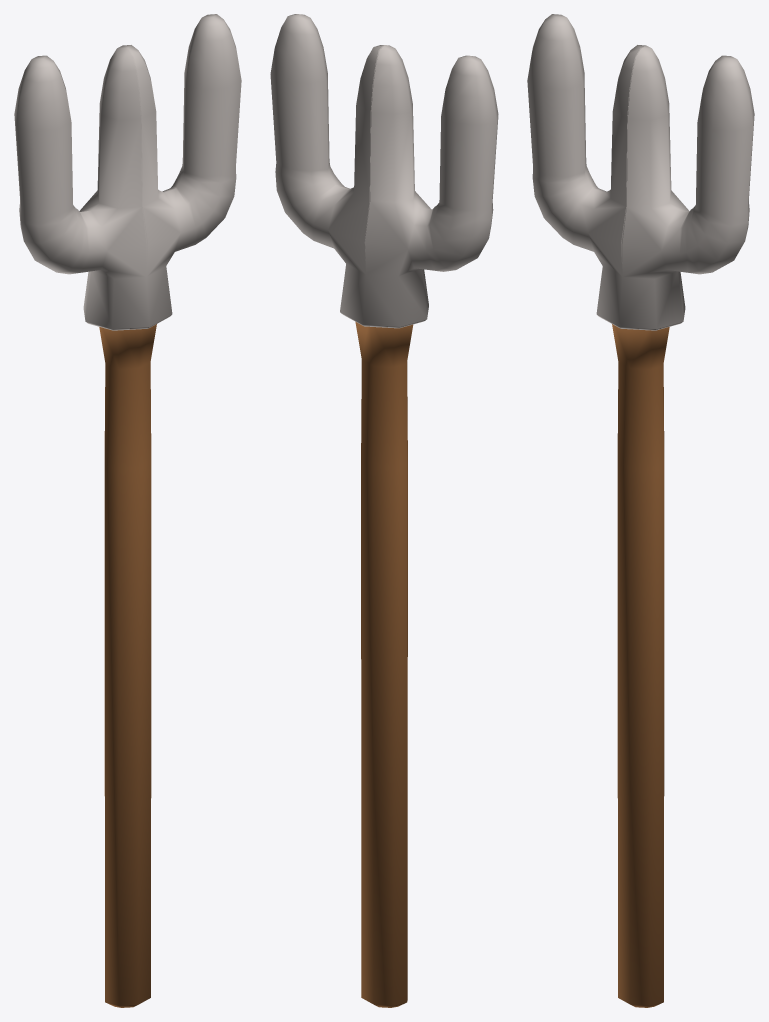
File: pitchfork_lowpoly.fbx
The picture shows the model from 3 angles, left to right: view 1: azimuth 30°, elevation 25°; view 2: azimuth 150°, elevation 25°; view 3: azimuth 330°, elevation 25°; orthographic projection.
Visible parts, largest first — view 1: Circle; view 2: Circle; view 3: Circle.
Part boxes in pixels (x1=…): Circle: x1=14, y1=14, x2=241, y2=1007; Circle: x1=270, y1=14, x2=498, y2=1007; Circle: x1=527, y1=14, x2=754, y2=1007.
Bounding box in the file's own units: 0.3963 × 1.64 × 0.1323.
